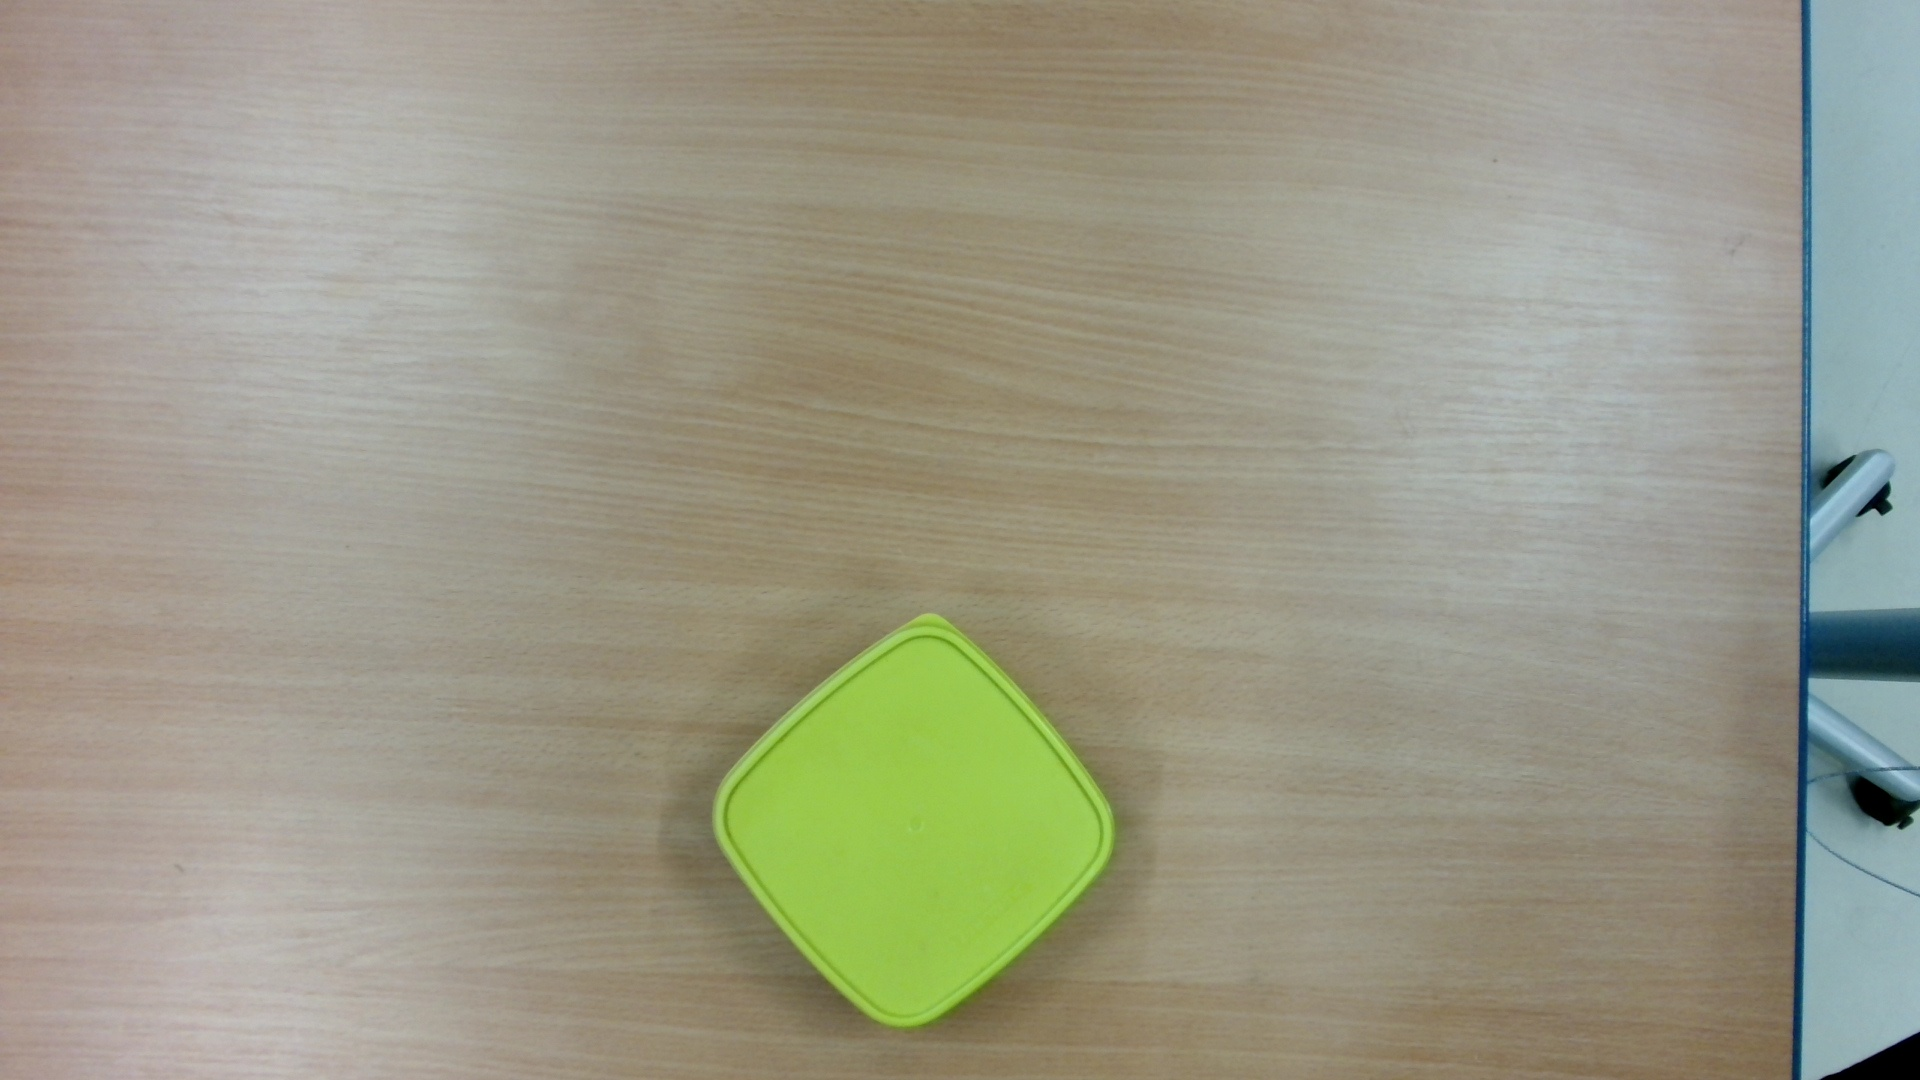Box: (704, 597, 1129, 1048)
